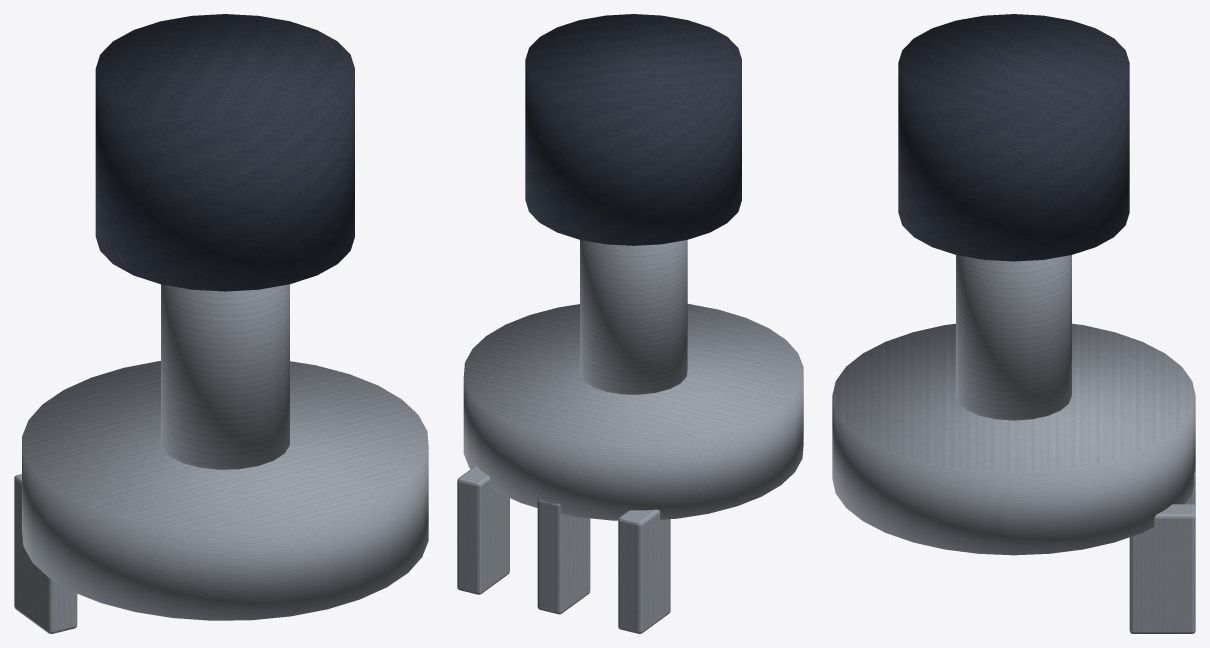
Rendered from Potentiometer.obj.
3 renders of one model, left to right at view 1: azimuth 30°, elevation 25°; view 2: azimuth 150°, elevation 25°; view 3: azimuth 270°, elevation 25°, orthographic. The views are drawn at different scales.
Parts seen in each view (by area): view 1: Body.001, Knob, Shaft, Terminal; view 2: Body.001, Knob, Shaft, Terminal, Terminal.002, Terminal.001; view 3: Body.001, Knob, Shaft, Terminal.002.
Part boxes in pixels (x1,y1,x2,y2): Body.001: [22, 361, 428, 620]; Knob: [95, 14, 354, 291]; Shaft: [161, 284, 289, 469]; Terminal: [14, 474, 77, 633]; Body.001: [463, 304, 803, 520]; Knob: [525, 14, 741, 245]; Shaft: [580, 240, 687, 394]; Terminal: [618, 509, 670, 633]; Terminal.002: [457, 465, 509, 594]; Terminal.001: [537, 499, 590, 614]; Body.001: [832, 323, 1195, 555]; Knob: [898, 14, 1129, 261]; Shaft: [956, 255, 1071, 420]; Terminal.002: [1129, 504, 1195, 633].
Size of the model in its own units: 0.22 by 0.35 by 0.22.
